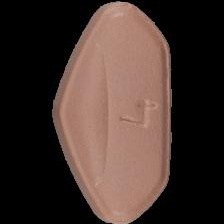54868-4198: (0, 0, 224, 224)
